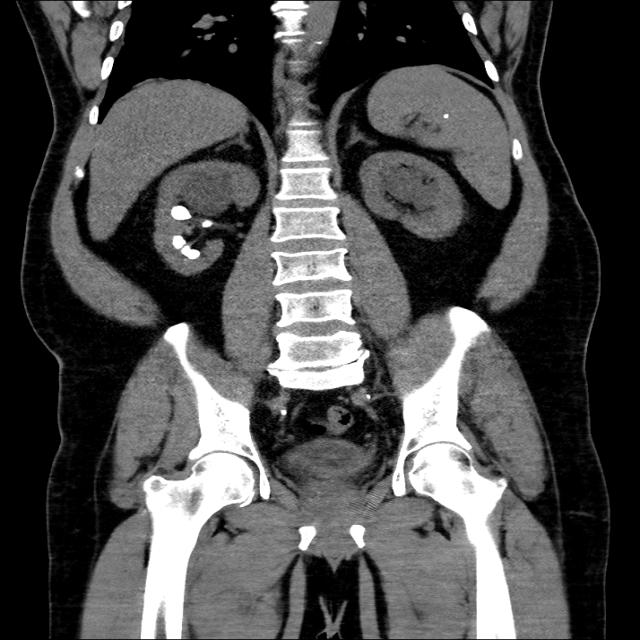kidneystone: (170, 205, 192, 219), (172, 235, 185, 249), (180, 250, 200, 259)
